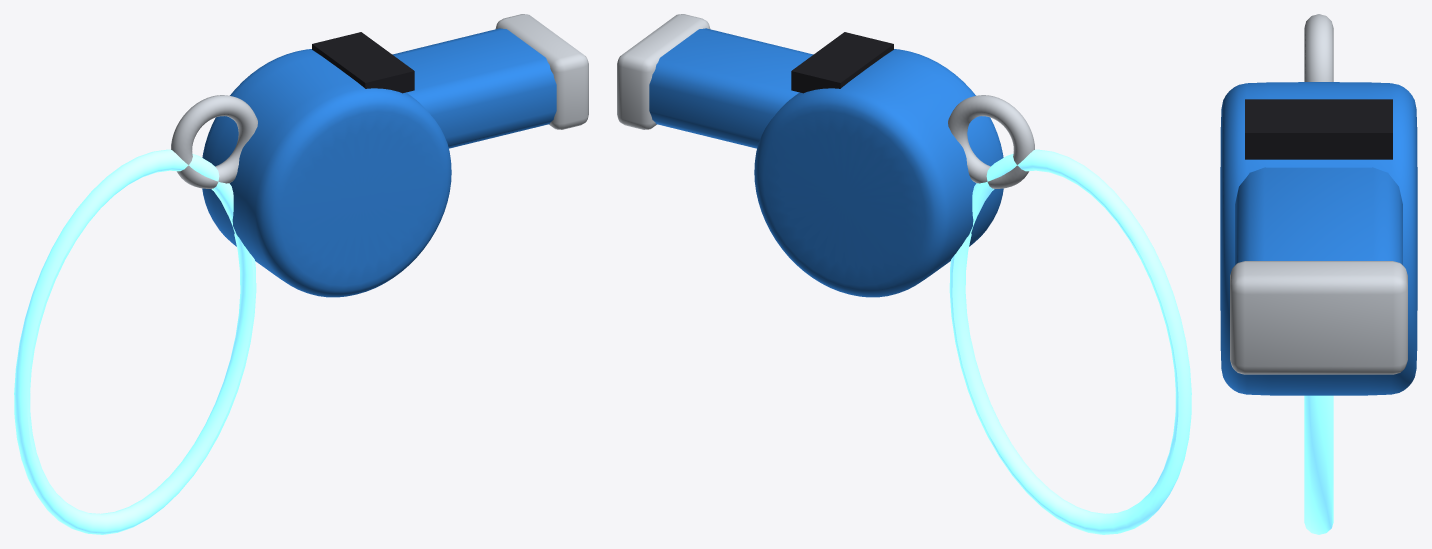
Rendered from partner.glb.
The picture shows the model from 3 angles, left to right: view 1: azimuth 30°, elevation 25°; view 2: azimuth 150°, elevation 25°; view 3: azimuth 270°, elevation 25°; orthographic projection. The views are drawn at different scales.
Parts seen in each view (by area): view 1: partner; view 2: partner; view 3: partner.
Part boxes in pixels (bbox=[...]): partner: bbox=[14, 14, 588, 534]; partner: bbox=[617, 14, 1191, 534]; partner: bbox=[1220, 14, 1417, 534].
Size of the model in its own units: 1.6 by 1.16 by 0.3621.
